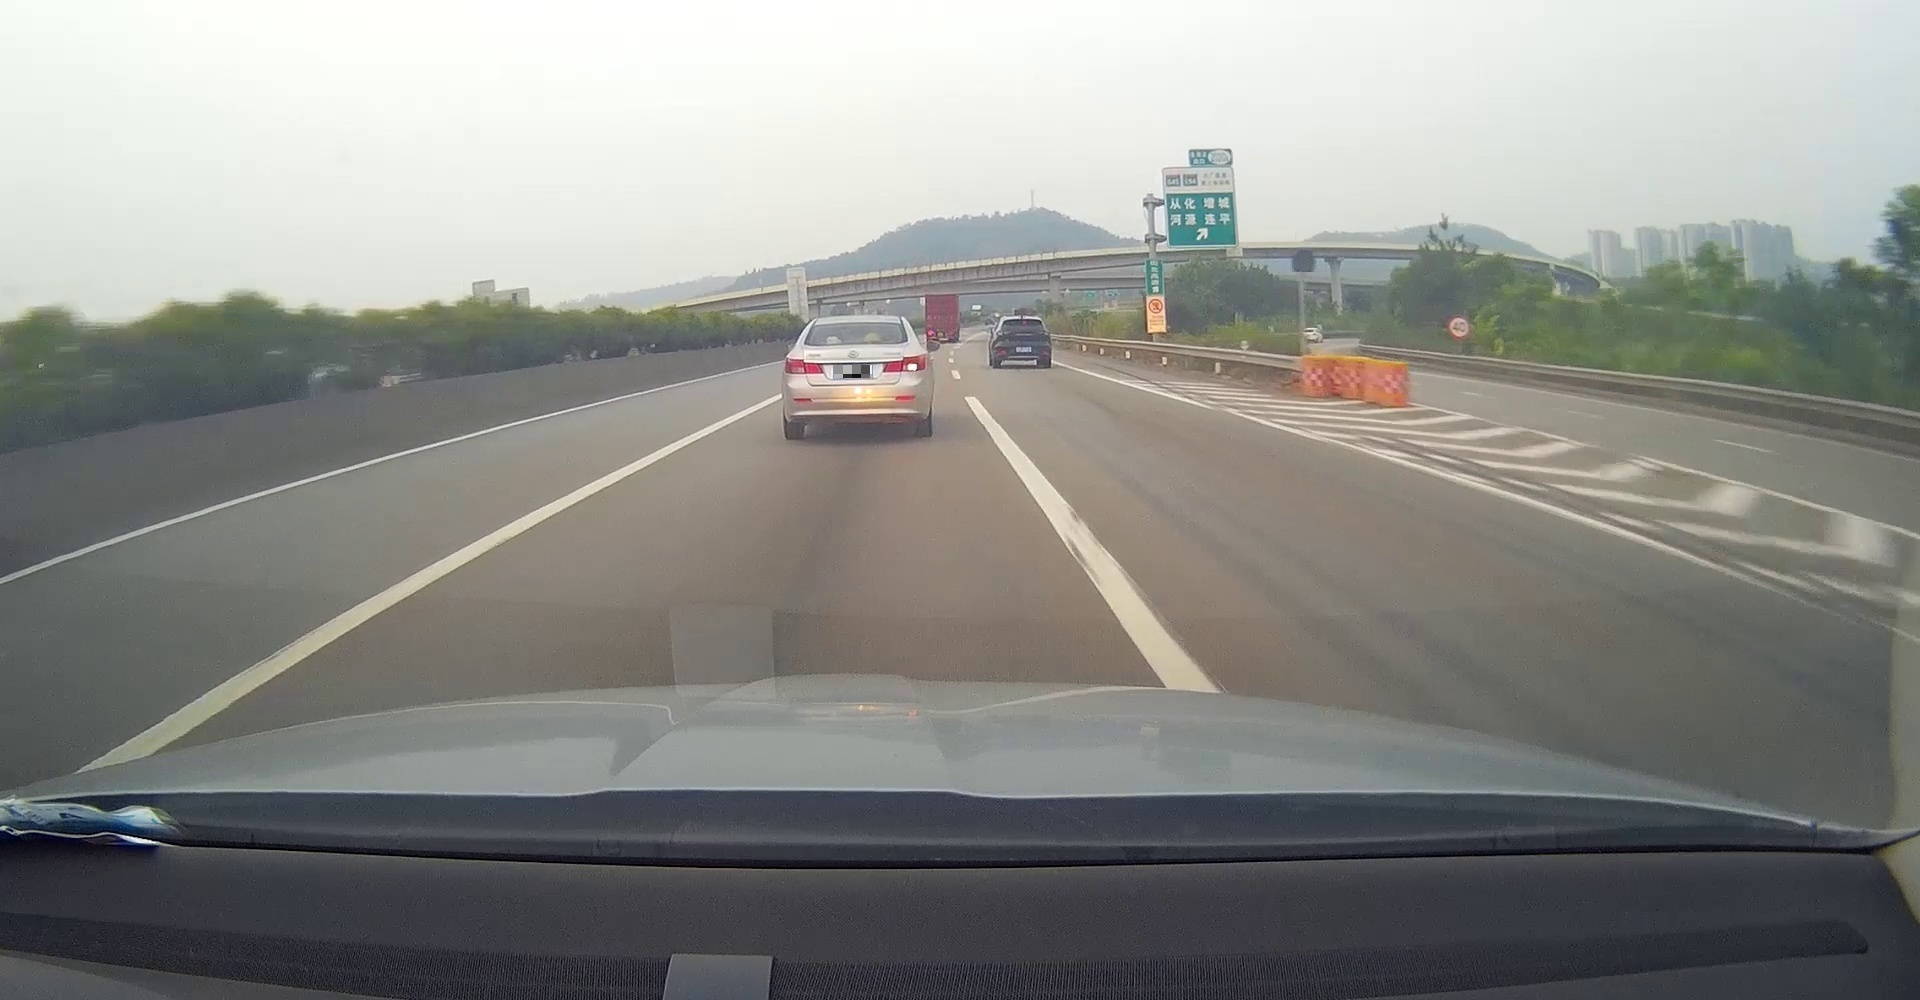L_light: (783, 357, 822, 374), (996, 332, 1006, 338)
R_light: (883, 354, 926, 373), (1043, 332, 1050, 336)
T_light: (848, 324, 866, 327), (1021, 320, 1029, 322)
day-no: (992, 319, 1051, 369)
day-right: (781, 319, 935, 440)
plate_1: (834, 365, 872, 378)
